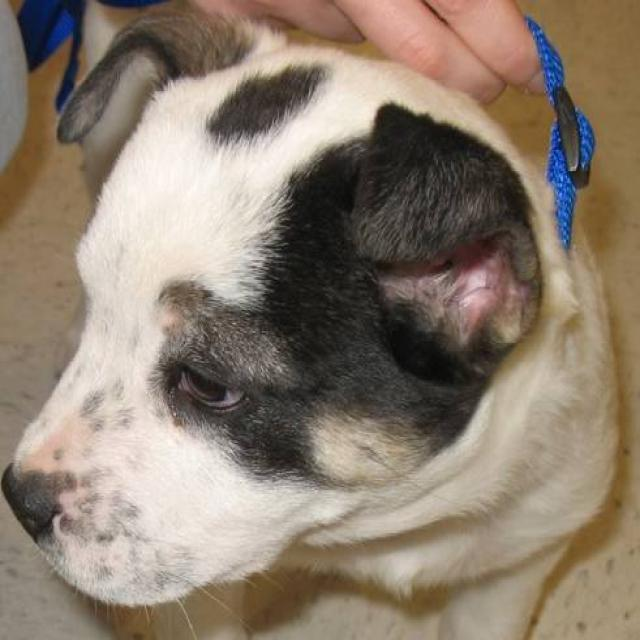dog: (0, 0, 623, 639)
